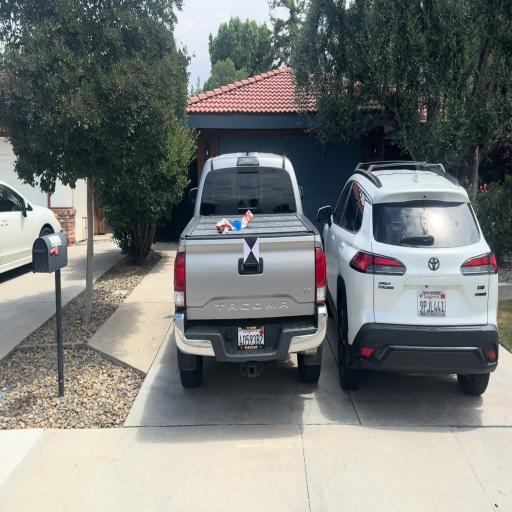target: (244, 238, 260, 265)
